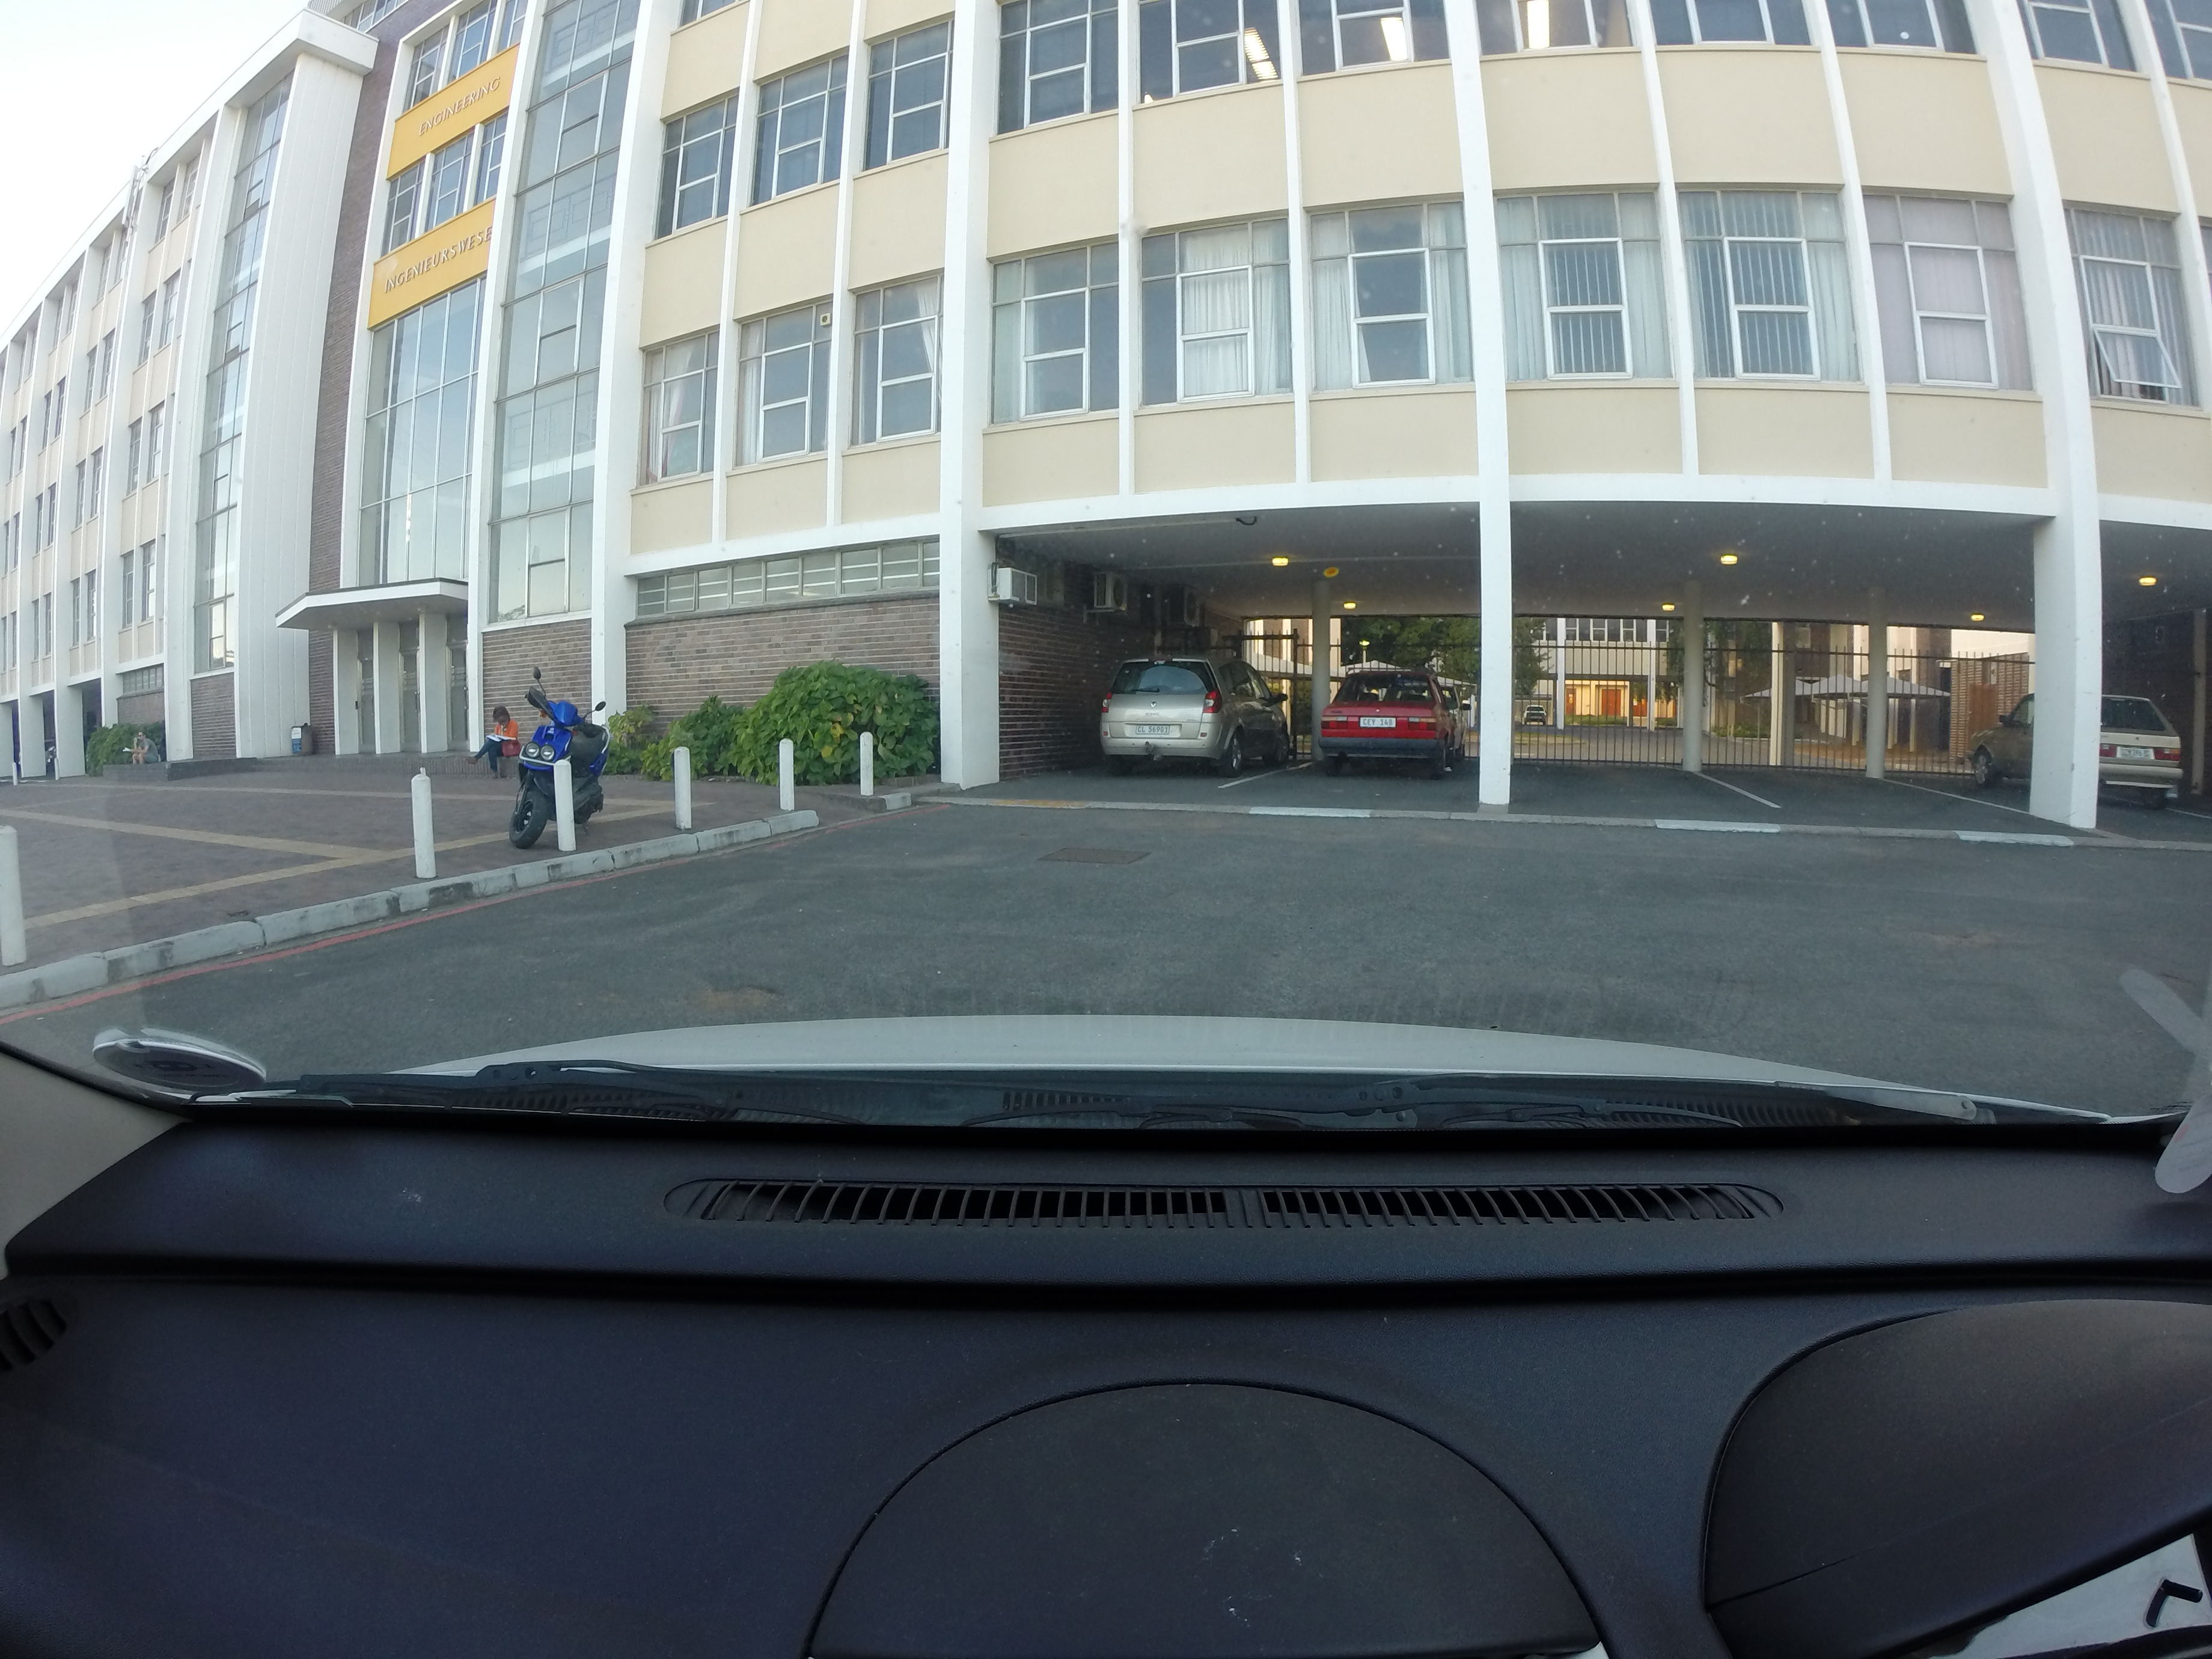pothole: (1909, 925, 2040, 955), (674, 986, 794, 1007)
